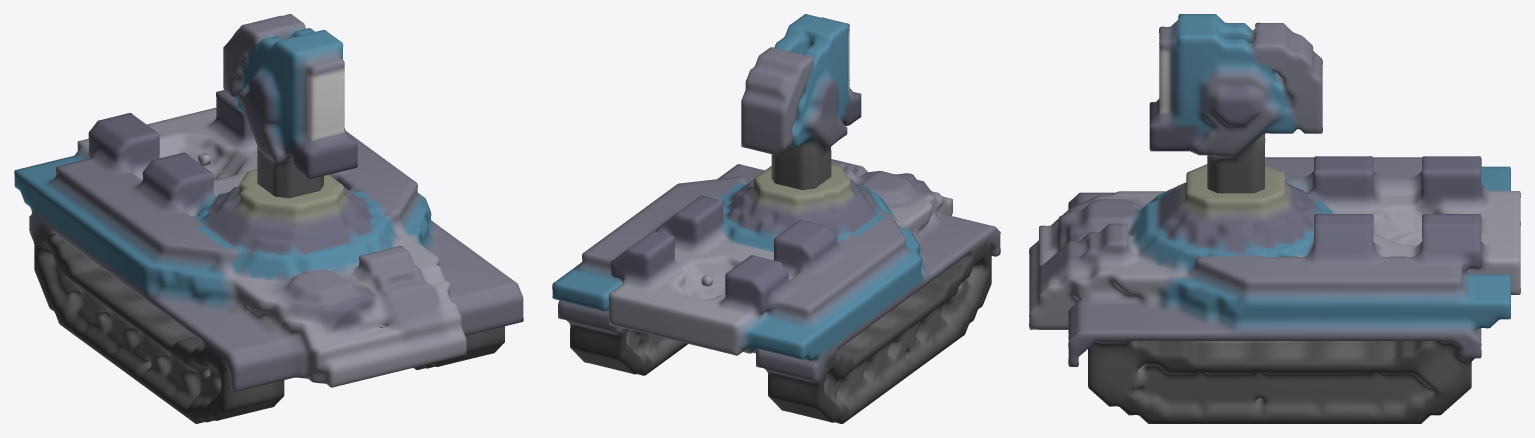
Rendered from prism_tank.glb.
The picture shows the model from 3 angles, left to right: view 1: azimuth 30°, elevation 25°; view 2: azimuth 150°, elevation 25°; view 3: azimuth 270°, elevation 25°; orthographic projection. The views are drawn at different scales.
Parts seen in each view (by area): view 1: prism_tank; view 2: prism_tank; view 3: prism_tank.
Part boxes in pixels (box(x1,y1,x2,y2)): prism_tank: box(14, 14, 523, 423); prism_tank: box(552, 14, 1000, 423); prism_tank: box(1029, 14, 1520, 423).
Bounding box in the file's own units: 2.8 × 3.06 × 4.12.
